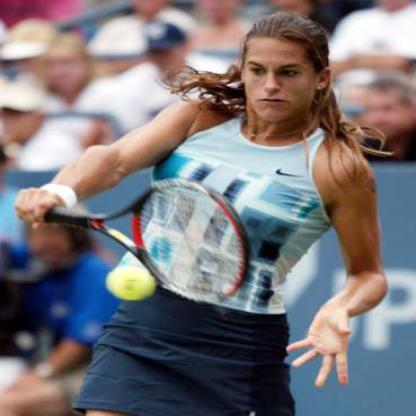face: (244, 17, 321, 125), (364, 80, 415, 138), (43, 41, 86, 91), (149, 26, 185, 70)
